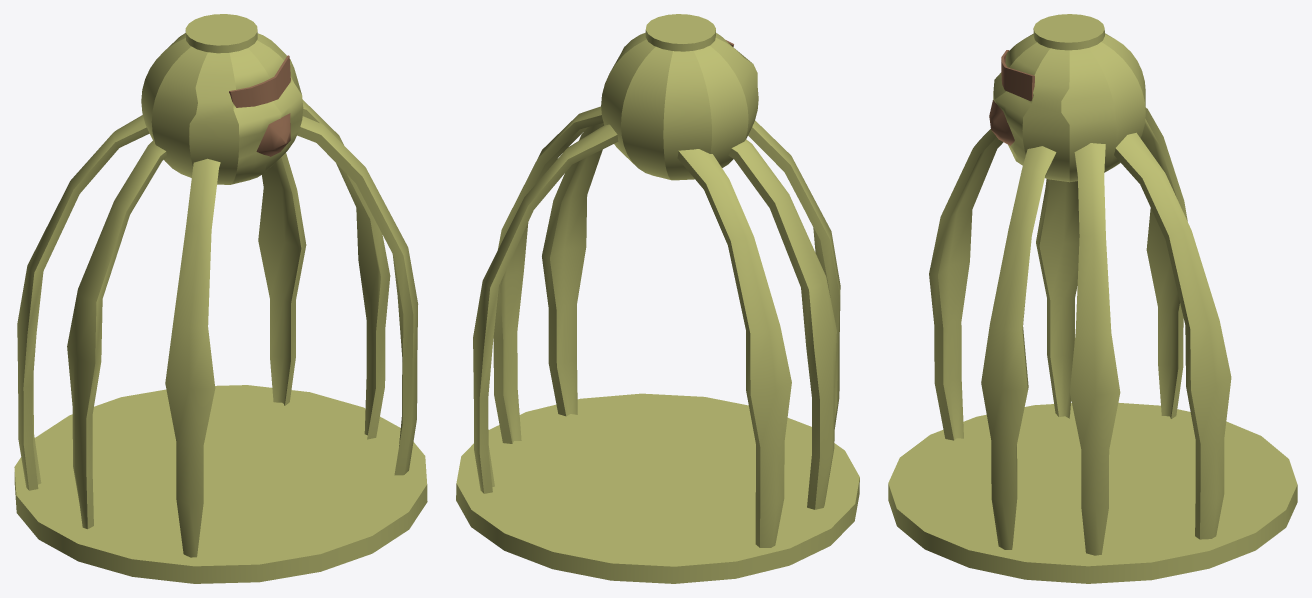
The model's file is robotStatue.fbx.
The picture shows the model from 3 angles, left to right: view 1: azimuth 30°, elevation 25°; view 2: azimuth 150°, elevation 25°; view 3: azimuth 270°, elevation 25°; orthographic projection. The views are drawn at different scales.
Parts seen in each view (by area): view 1: pCylinder18, pSphere5, pCube136, pCube135, pCube138, pCube134, pCube137, pCube139, pCylinder17, pCube131, pCone1; view 2: pCylinder18, pSphere5, pCube134, pCube135, pCube137, pCube138, pCube139, pCube136, pCylinder17; view 3: pCylinder18, pSphere5, pCube138, pCube139, pCube137, pCube136, pCube135, pCube134, pCylinder17, pCube131, pCone1.
Boxes of the visible parts, x1,y1,x2,y2 form: pCylinder18: (14, 385, 427, 583); pSphere5: (141, 33, 303, 184); pCube136: (165, 158, 220, 557); pCube135: (67, 140, 166, 529); pCube138: (258, 153, 306, 405); pCube134: (17, 115, 149, 490); pCube137: (297, 116, 418, 475); pCube139: (302, 100, 390, 439); pCylinder17: (185, 14, 257, 53); pCube131: (229, 55, 290, 107); pCone1: (256, 113, 290, 156); pCylinder18: (456, 393, 859, 583); pSphere5: (601, 32, 758, 180); pCube134: (677, 149, 791, 547); pCube135: (728, 139, 836, 509); pCube137: (542, 123, 603, 416); pCube138: (473, 124, 618, 493); pCube139: (493, 106, 603, 443); pCube136: (748, 120, 840, 428); pCylinder17: (645, 14, 715, 51); pCylinder18: (888, 402, 1297, 583); pSphere5: (993, 33, 1145, 182); pCube138: (1114, 132, 1231, 539); pCube139: (1069, 143, 1120, 555); pCube137: (981, 146, 1056, 549); pCube136: (929, 129, 1003, 440); pCube135: (1036, 179, 1079, 418); pCube134: (1140, 107, 1187, 418); pCylinder17: (1033, 14, 1104, 50); pCube131: (1001, 50, 1034, 101); pCone1: (989, 100, 1014, 145).
Bounding box in the file's own units: 46.82 × 59.59 × 46.8.
